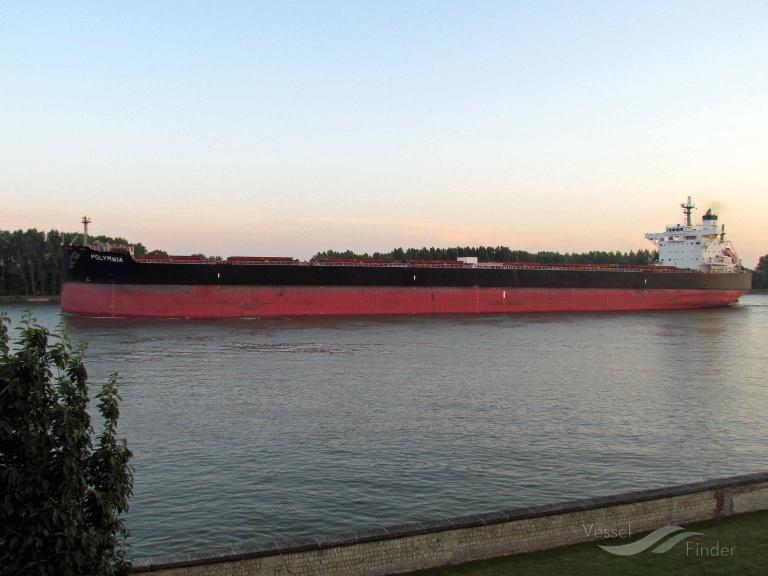OCR: (91, 249, 127, 265)
